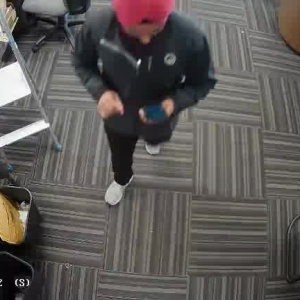person: (82, 0, 210, 209)
